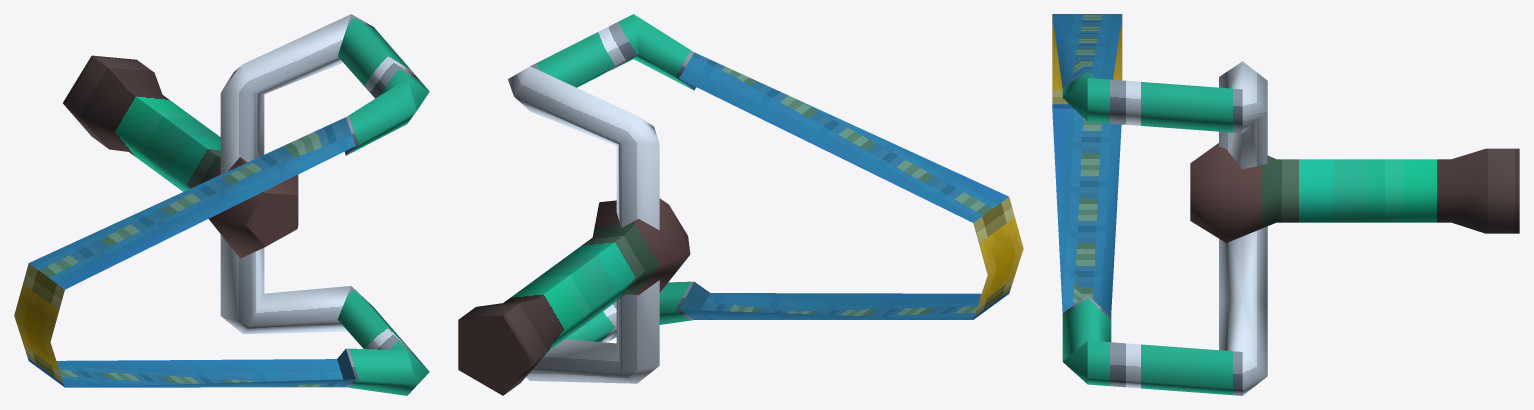
Rendered from s_sling.obj.
3 views of the same model, side by side, from view 1: azimuth 30°, elevation 25°; view 2: azimuth 150°, elevation 25°; view 3: azimuth 270°, elevation 25° (orthographic). The views are drawn at different scales.
Parts seen in each view (by area): view 1: vsn_mesh_0__mesh_0_.013; view 2: vsn_mesh_0__mesh_0_.013; view 3: vsn_mesh_0__mesh_0_.013.
Boxes of the visible parts, <box> form: vsn_mesh_0__mesh_0_.013: <box>14,14,429,395</box>; vsn_mesh_0__mesh_0_.013: <box>458,14,1023,395</box>; vsn_mesh_0__mesh_0_.013: <box>1052,14,1519,395</box>.
Size of the model in its own units: 13.6 by 9.78 by 13.5.
1 material, 1 textured.
